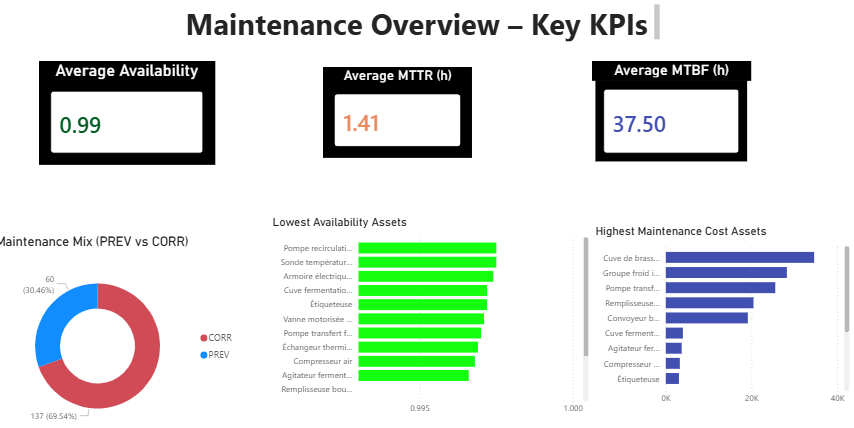

The dashboard page shown, as its layout file describes it:
{"tool":"powerbi","page":{"name":"Overview – Maintenance","canvas":[1280,720],"ordinal":0},"visuals":[{"type":"cardVisual","title":"Average Availability","fields":{"Data":["Avg(asset_kpi.availability_ratio)","select","select1"]},"box":[83.4,161,257.6,152.2],"z":0},{"type":"cardVisual","title":"Average MTTR (h)","fields":{"Data":["Avg(asset_kpi.mttr_hours)"]},"box":[499,169.8,218,133.2],"z":1000},{"type":"cardVisual","title":"Average MTBF (h)","fields":{"Data":["Avg(asset_kpi.mtbf_hours)"]},"box":[892.7,161,232.7,152.2],"z":2000},{"type":"donutChart","title":"Maintenance Mix (PREV vs CORR)","fields":{"Category":["maintenance_mix.maintenance_type"],"Y":["Sum(maintenance_mix.nb_work_orders)"]},"box":[14.6,414.1,365.9,305.9],"z":3000},{"type":"barChart","title":"Lowest Availability Assets","fields":{"Category":["asset_kpi.asset_name"],"Y":["Avg(asset_kpi.availability_ratio)"]},"box":[420,386.3,472.7,301.5],"z":4000},{"type":"barChart","title":"Highest Maintenance Cost Assets","fields":{"Category":["asset_kpi.asset_name"],"Y":["Sum(asset_kpi.total_maintenance_cost)"]},"box":[892.7,399.5,382,273.7],"z":5000},{"type":"textbox","box":[289.8,73.2,706.8,64.4],"z":6000}]}

Visuals, with their boxes on the page's 1280x720 design canvas (x1, y1, x2, y2). These are canvas units, not pixel positions in the 854x428 screenshot, which may show the page scaled, cropped or inside an application window:
"Average Availability" cardVisual: 83/161/341/313
"Average MTTR (h)" cardVisual: 499/170/717/303
"Average MTBF (h)" cardVisual: 893/161/1125/313
"Maintenance Mix (PREV vs CORR)" donutChart: 15/414/380/720
"Lowest Availability Assets" barChart: 420/386/893/688
"Highest Maintenance Cost Assets" barChart: 893/400/1275/673
textbox: 290/73/997/138
